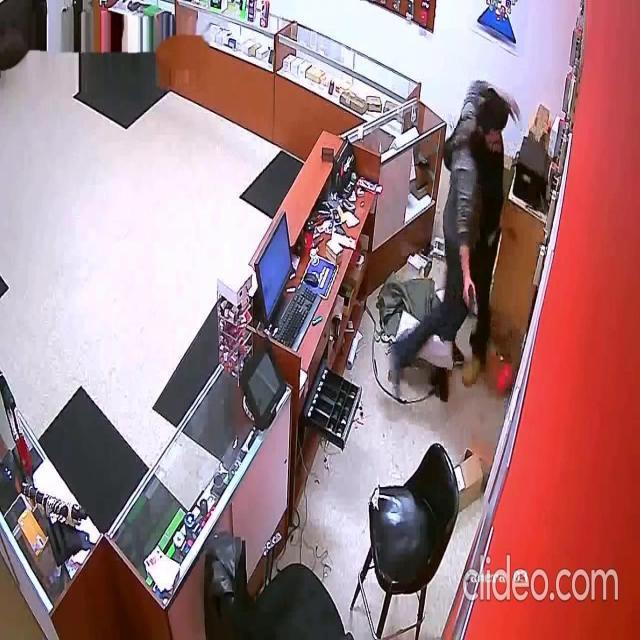pistol: (467, 280, 477, 322)
